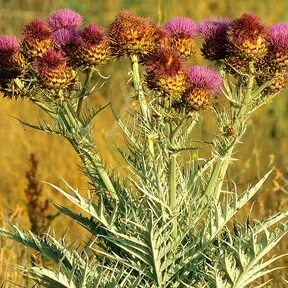thistle: (182, 63, 220, 114), (32, 48, 76, 90), (161, 15, 200, 62), (196, 15, 232, 59), (2, 34, 28, 86), (48, 9, 81, 42), (264, 20, 288, 62)
